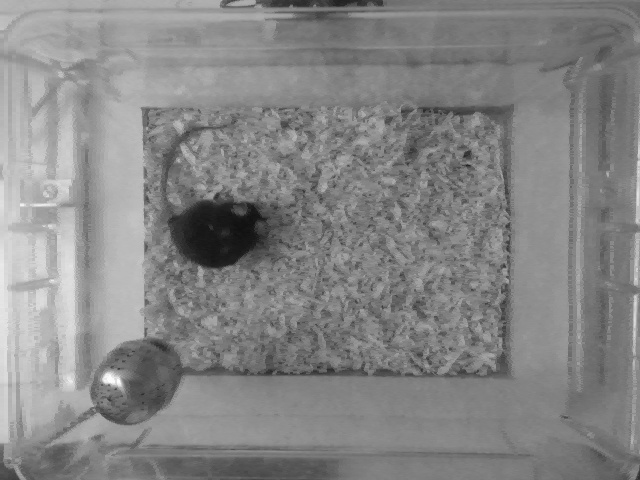mice: (160, 116, 272, 267)
